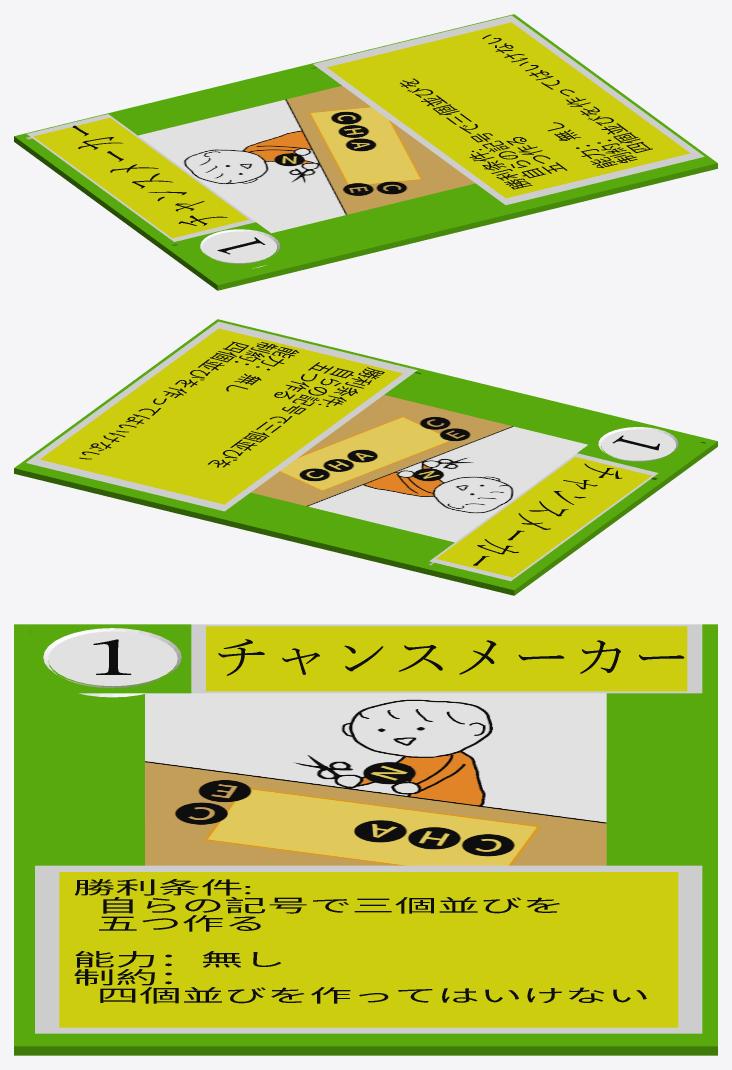
Rendered from チャンスメーカー緑.fbx.
The picture shows the model from 3 angles, top to bottom: view 1: azimuth 30°, elevation 25°; view 2: azimuth 150°, elevation 25°; view 3: azimuth 270°, elevation 25°; orthographic projection. The views are drawn at different scales.
Parts seen in each view (by area): view 1: 説明欄, 平面.001, カード本体.001, 名前欄, 説明文, 円, 平面, 名前; view 2: 説明欄, 平面.001, カード本体.001, 名前欄, 説明文, 円, 平面, 名前; view 3: 説明欄, 平面.001, カード本体.001, 名前欄, 説明文, 円, 平面, 名前, コスト蘭.
Boxes of the visible parts, box(x1,y1,x2,y2) form: 説明欄: box(313, 15, 704, 205); 平面.001: box(138, 86, 475, 233); カード本体.001: box(14, 14, 717, 290); 名前欄: box(27, 114, 255, 241); 説明文: box(400, 34, 652, 189); 円: box(202, 231, 276, 262); 平面: box(174, 222, 302, 275); 名前: box(72, 125, 227, 225); 説明欄: box(26, 321, 417, 511); 平面.001: box(251, 395, 587, 542); カード本体.001: box(14, 319, 717, 595); 名前欄: box(429, 453, 658, 581); 説明文: box(79, 341, 384, 467); 円: box(601, 429, 675, 460); 平面: box(577, 419, 704, 472); 名前: box(473, 463, 621, 565); 説明欄: box(35, 865, 702, 1033); 平面.001: box(145, 693, 606, 865); カード本体.001: box(14, 624, 717, 1055); 名前欄: box(191, 624, 702, 693); 説明文: box(74, 879, 646, 1003); 円: box(48, 631, 177, 686); 平面: box(30, 624, 191, 693); 名前: box(218, 639, 684, 675); コスト蘭: box(43, 628, 181, 697).
Bounding box in the file's own units: 281 × 6.07 × 198.
Materials: 13 (1 with a texture image).
